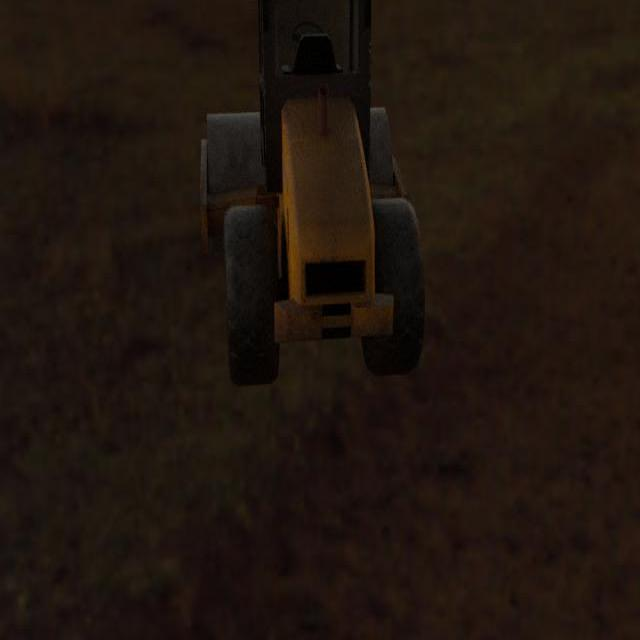Roller: (199, 0, 425, 388)
